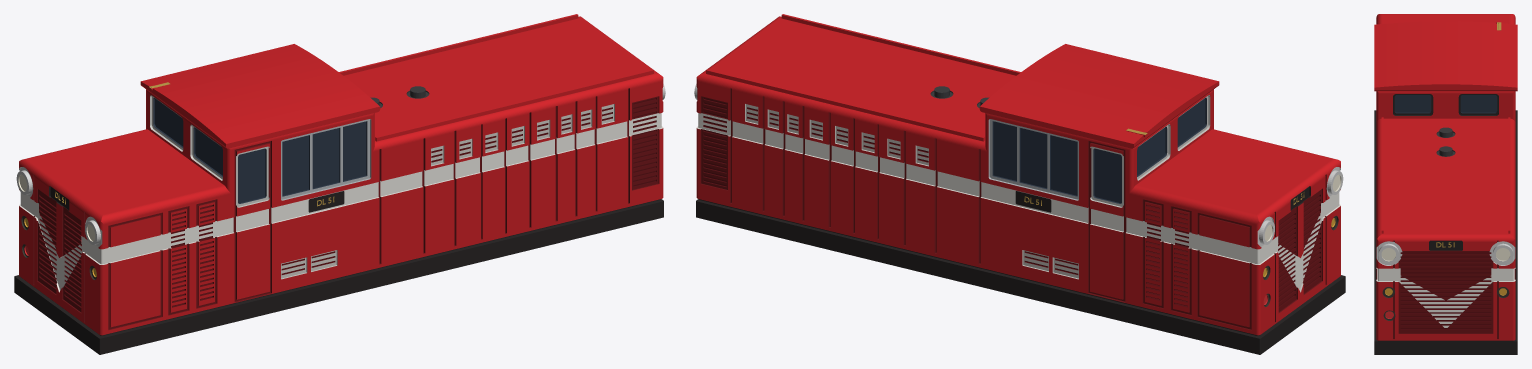
File: alishan.glb
3 renders of one model, left to right at view 1: azimuth 30°, elevation 25°; view 2: azimuth 150°, elevation 25°; view 3: azimuth 270°, elevation 25°, orthographic. The views are drawn at different scales.
Parts seen in each view (by area): view 1: afr_alishan; view 2: afr_alishan; view 3: afr_alishan.
Part boxes in pixels (x1=…): afr_alishan: x1=14, y1=14, x2=665, y2=354; afr_alishan: x1=694, y1=14, x2=1345, y2=354; afr_alishan: x1=1374, y1=14, x2=1517, y2=354.
Bounding box in the file's own units: 150 × 46.5 × 39.2.
